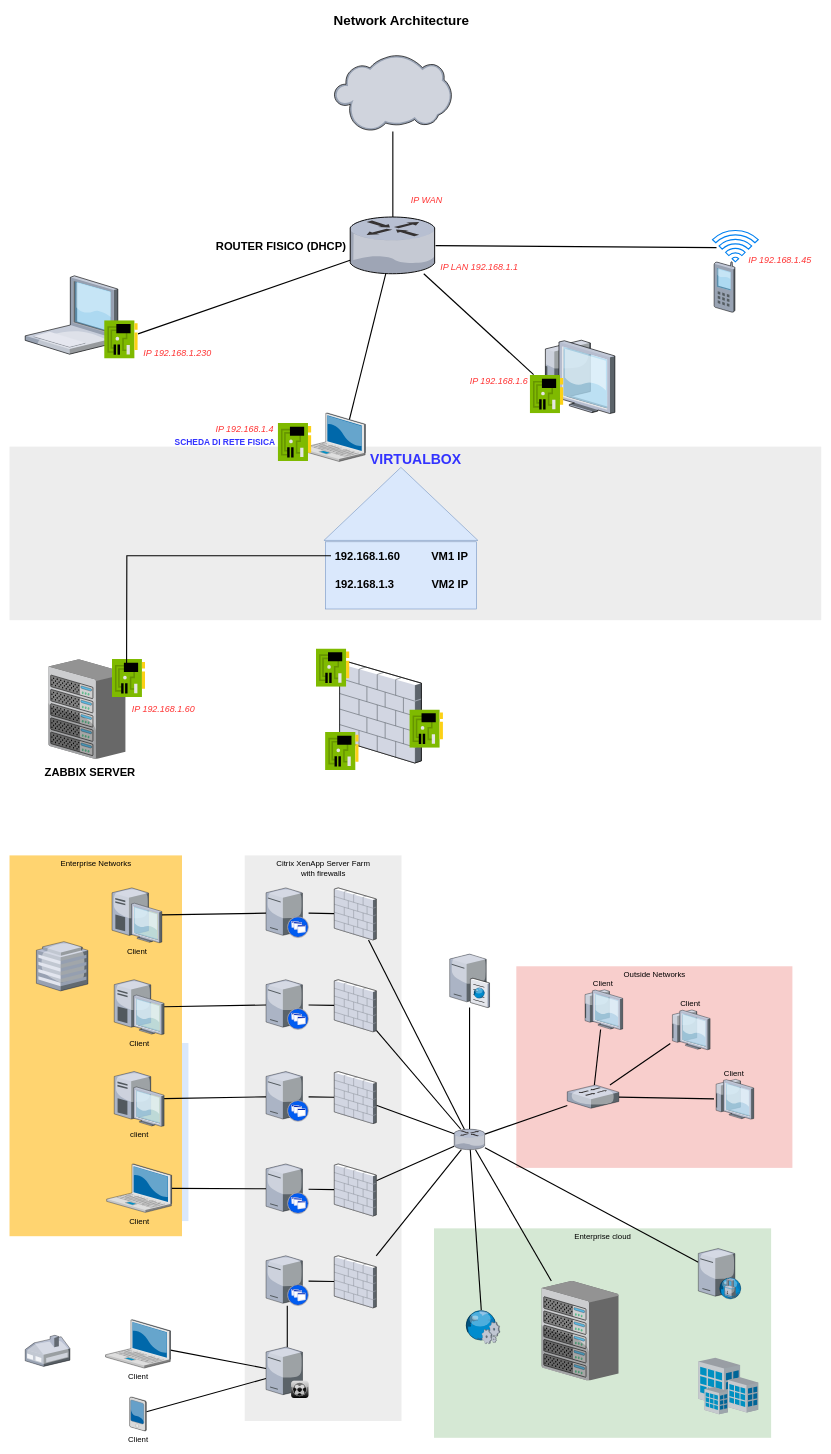
Image size: 831x1454. Some labels were removed from this diagram. The shapes that lost their labels are listed below. From the top down, each one's centre as x and y in pixels, then its label:
the point at 392,92: INTERNET
the point at 469,980: Web Server
the point at 719,1273: Secure Server
the point at 482,1326: Web service
the point at 579,1330: DNS
